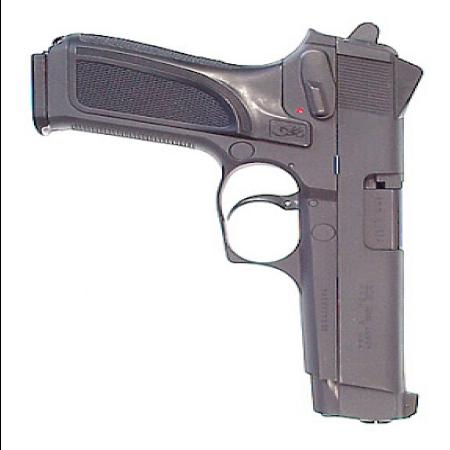Pistol: (31, 20, 425, 424)
